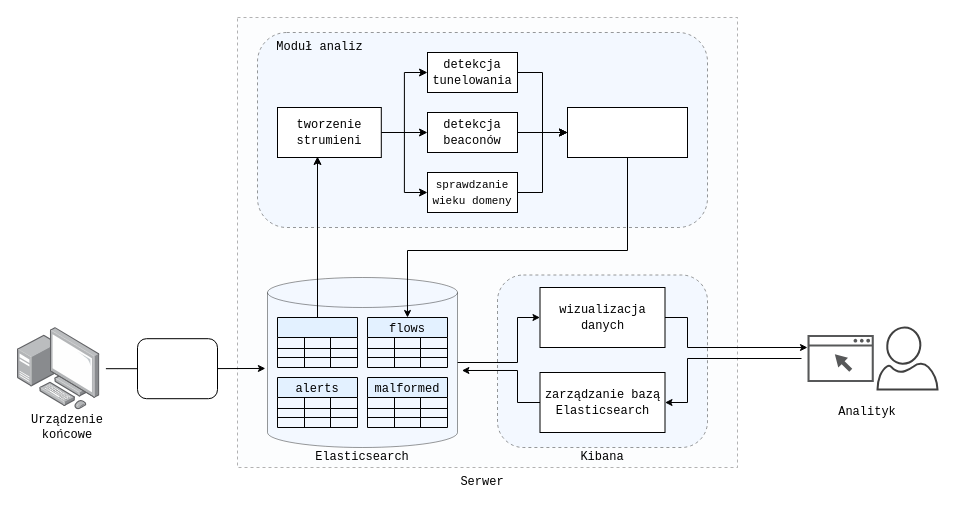
Some shapes in this 955 by 515 pixel diagram are drawn without their labels. Here are the shapes that lost their labels. From the top down, the box of each, then its label:
(566, 106, 688, 158): grupowanie wyników (host + domena)
(276, 316, 358, 368): samples
(136, 338, 218, 399): samples alerts malformed
